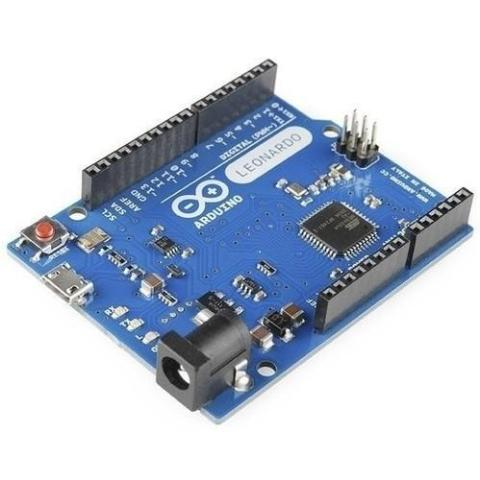Arduino-Leonardo: (4, 56, 474, 424)
